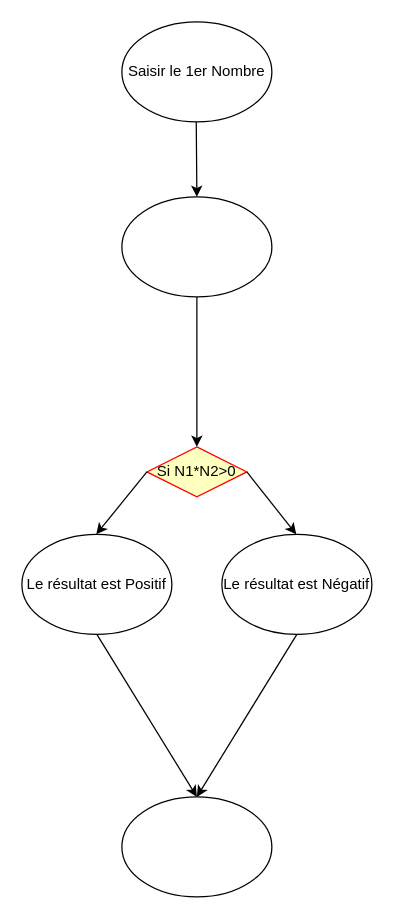
Image size: 394x919. Some labels were removed from this diagram. Here are the shapes that lost their labels. From the top down, the centre of each, then its label:
pixel 196 246: Saisir le 2éme Nombre
pixel 196 846: Fin de l'algorithme
